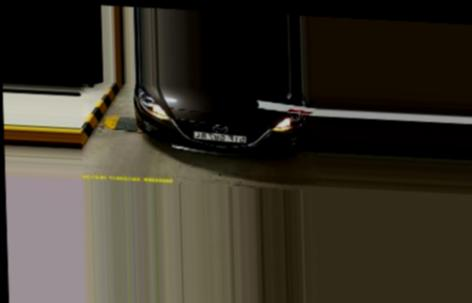License_Plate: (188, 129, 248, 148)
